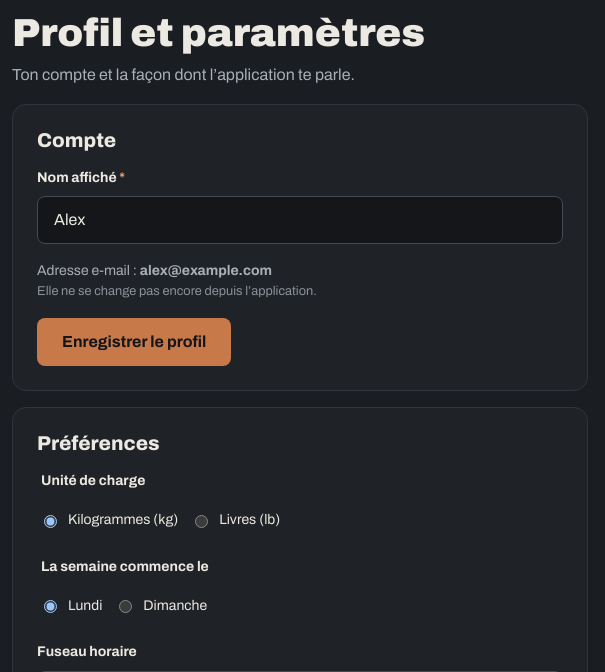
ProfileView › refuse un nom trop court sans toucher au compte
Replace the text in the field labelled "Nom affiché *" with "A" at (300, 220), box [37,196,563,244]
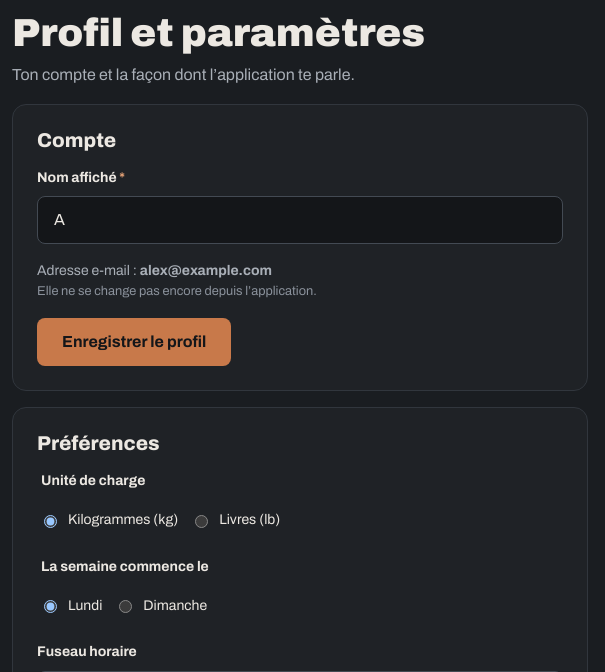
Submit the form that starts with "Nom affiché", box [37,167,563,366]
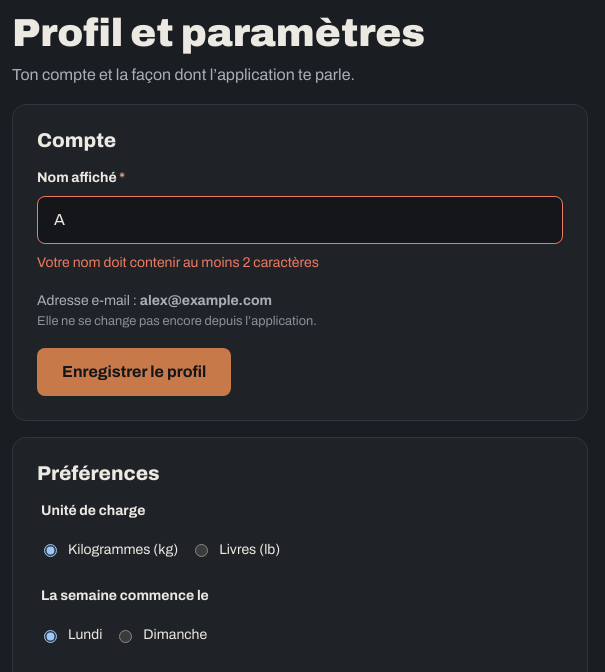
Now the text "Votre nom doit contenir au moins 2 caractères" is shown, box [37,256,319,270]
